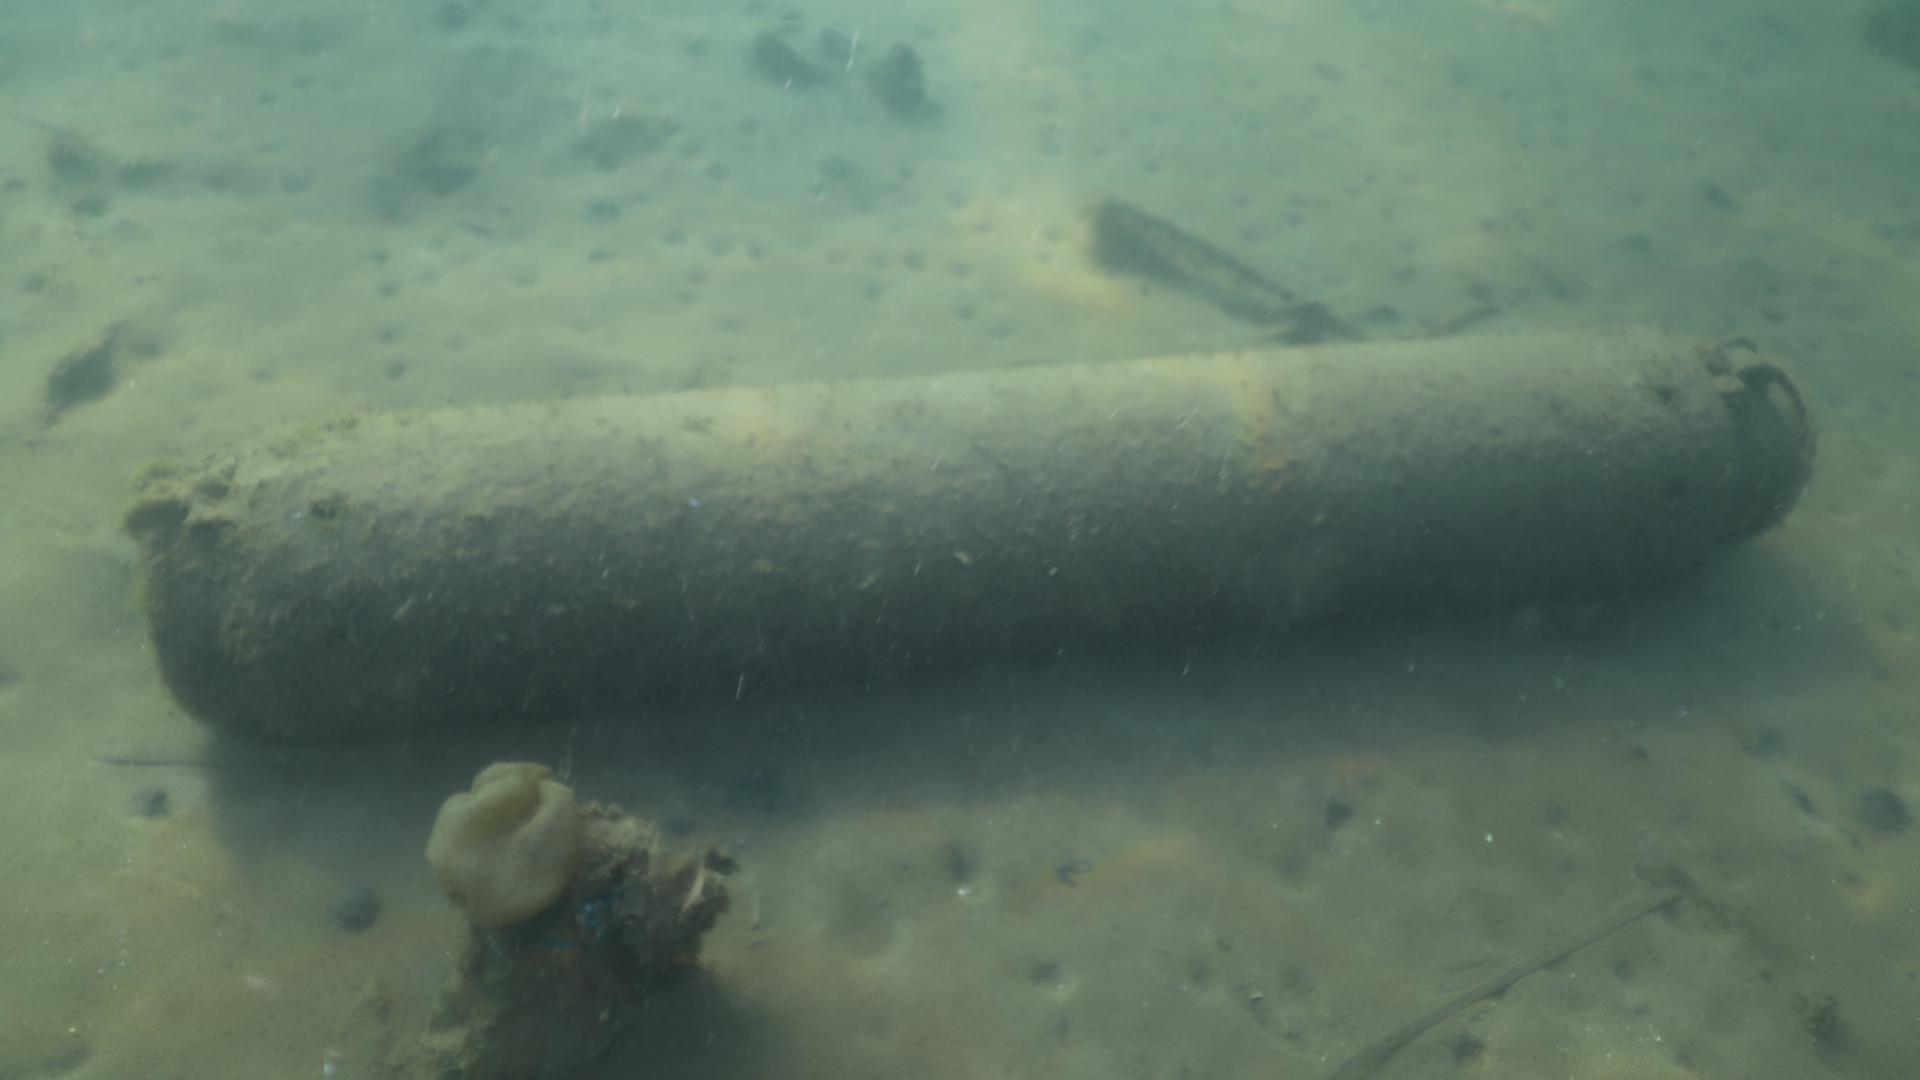eel fish trap: (127, 324, 1808, 745)
